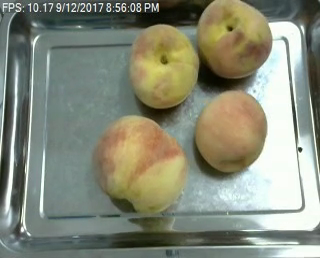Peach: (93, 115, 186, 213), (196, 0, 273, 79), (194, 88, 266, 172), (127, 23, 199, 107)
